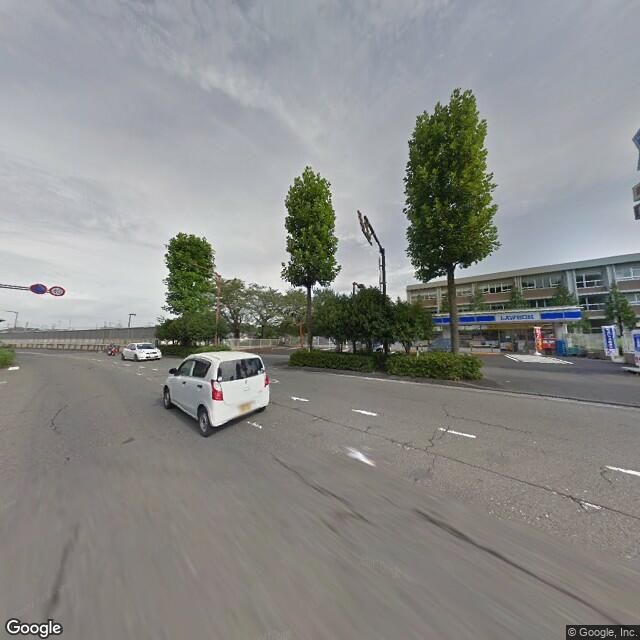lawson: (431, 304, 583, 327)
